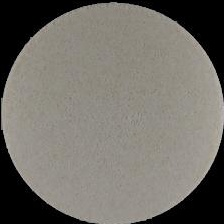51655-129: (0, 0, 224, 224)
